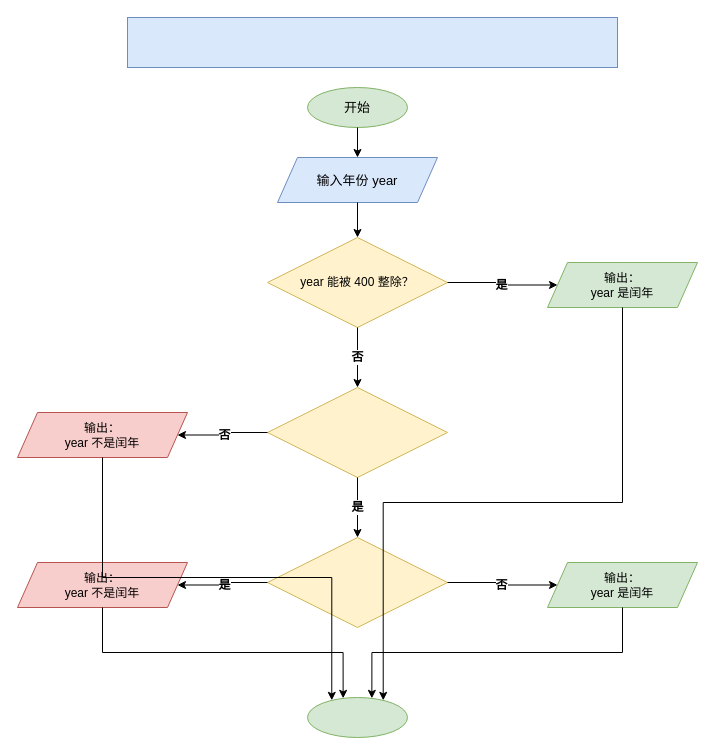
Image size: 715x755. Some labels were removed from this diagram. Each missing label, with the box of its shape:
year 能被 100 整除？: (266, 536, 448, 628)
year 能被 4 整除？: (266, 386, 448, 478)
结束: (306, 696, 408, 738)
闰年判断流程图 判定准则：四年一闰，百年不闰，四百年又闰: (126, 16, 618, 68)
